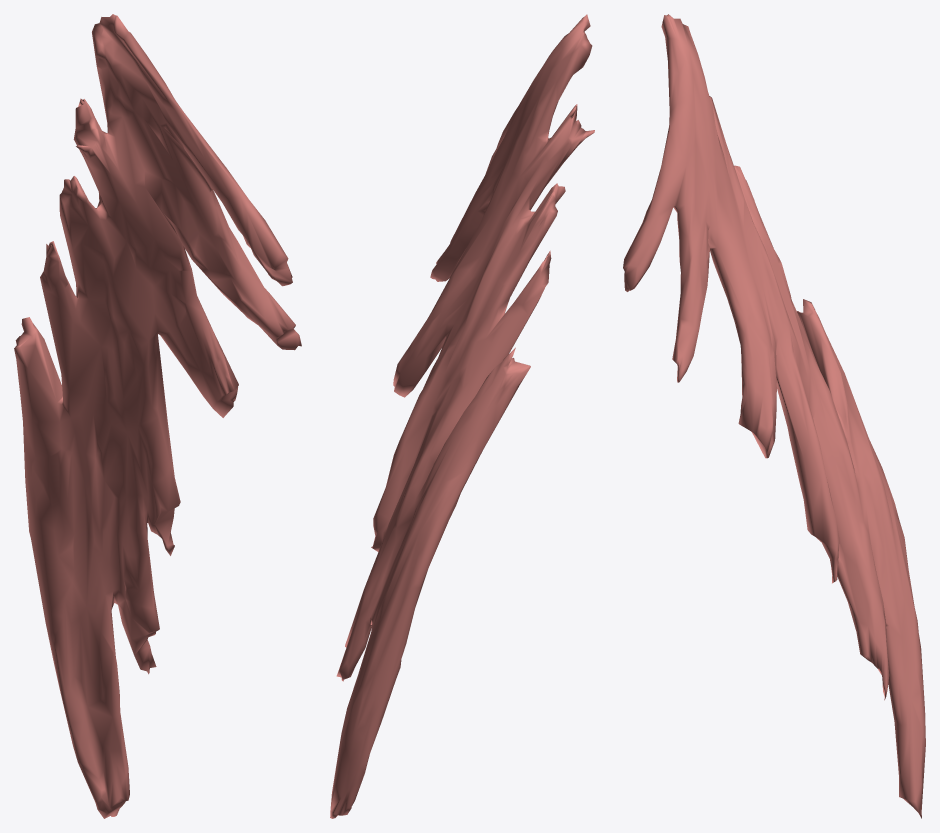
The picture shows the model from 3 angles, left to right: view 1: azimuth 30°, elevation 25°; view 2: azimuth 150°, elevation 25°; view 3: azimuth 270°, elevation 25°; orthographic projection. The views are drawn at different scales.
Visible parts, largest first — view 1: ZA_00a91a0bbec8ea9d; view 2: ZA_00a91a0bbec8ea9d; view 3: ZA_00a91a0bbec8ea9d.
Boxes of the visible parts, bbox=[...] form: ZA_00a91a0bbec8ea9d: bbox=[14, 14, 301, 818]; ZA_00a91a0bbec8ea9d: bbox=[330, 14, 594, 818]; ZA_00a91a0bbec8ea9d: bbox=[623, 14, 925, 818].
Bounding box in the file's own units: 0.034 × 0.1425 × 0.0527.
